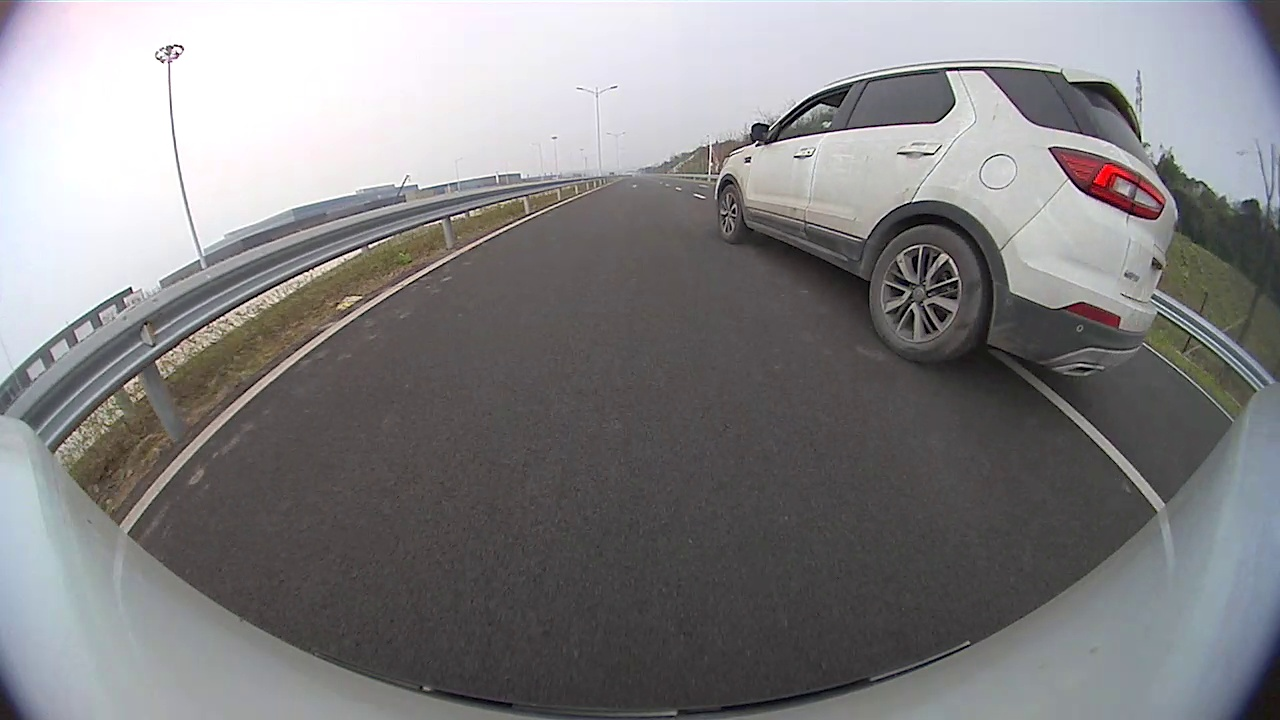car: (715, 61, 1179, 378)
front: (715, 183, 749, 247)
rear: (866, 221, 990, 363)
